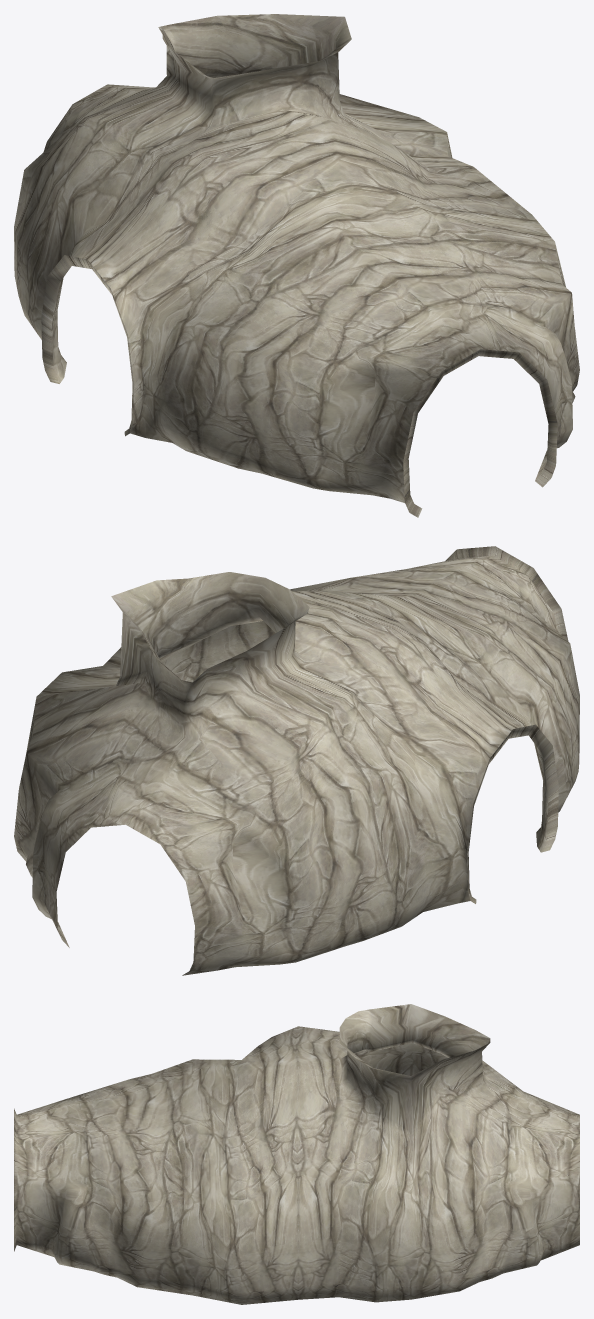
Rendered from cave ceiling large open.FBX.
3 renders of one model, top to bottom at view 1: azimuth 30°, elevation 25°; view 2: azimuth 150°, elevation 25°; view 3: azimuth 270°, elevation 25°, orthographic. The views are drawn at different scales.
Parts seen in each view (by area): view 1: cave ceiling large open; view 2: cave ceiling large open; view 3: cave ceiling large open.
Part boxes in pixels (x1,y1,x2,y2): cave ceiling large open: (14,14,579,517); cave ceiling large open: (14,546,579,975); cave ceiling large open: (14,1004,579,1304).
Bounding box in the file's own units: 53.93 × 32.63 × 80.4.
